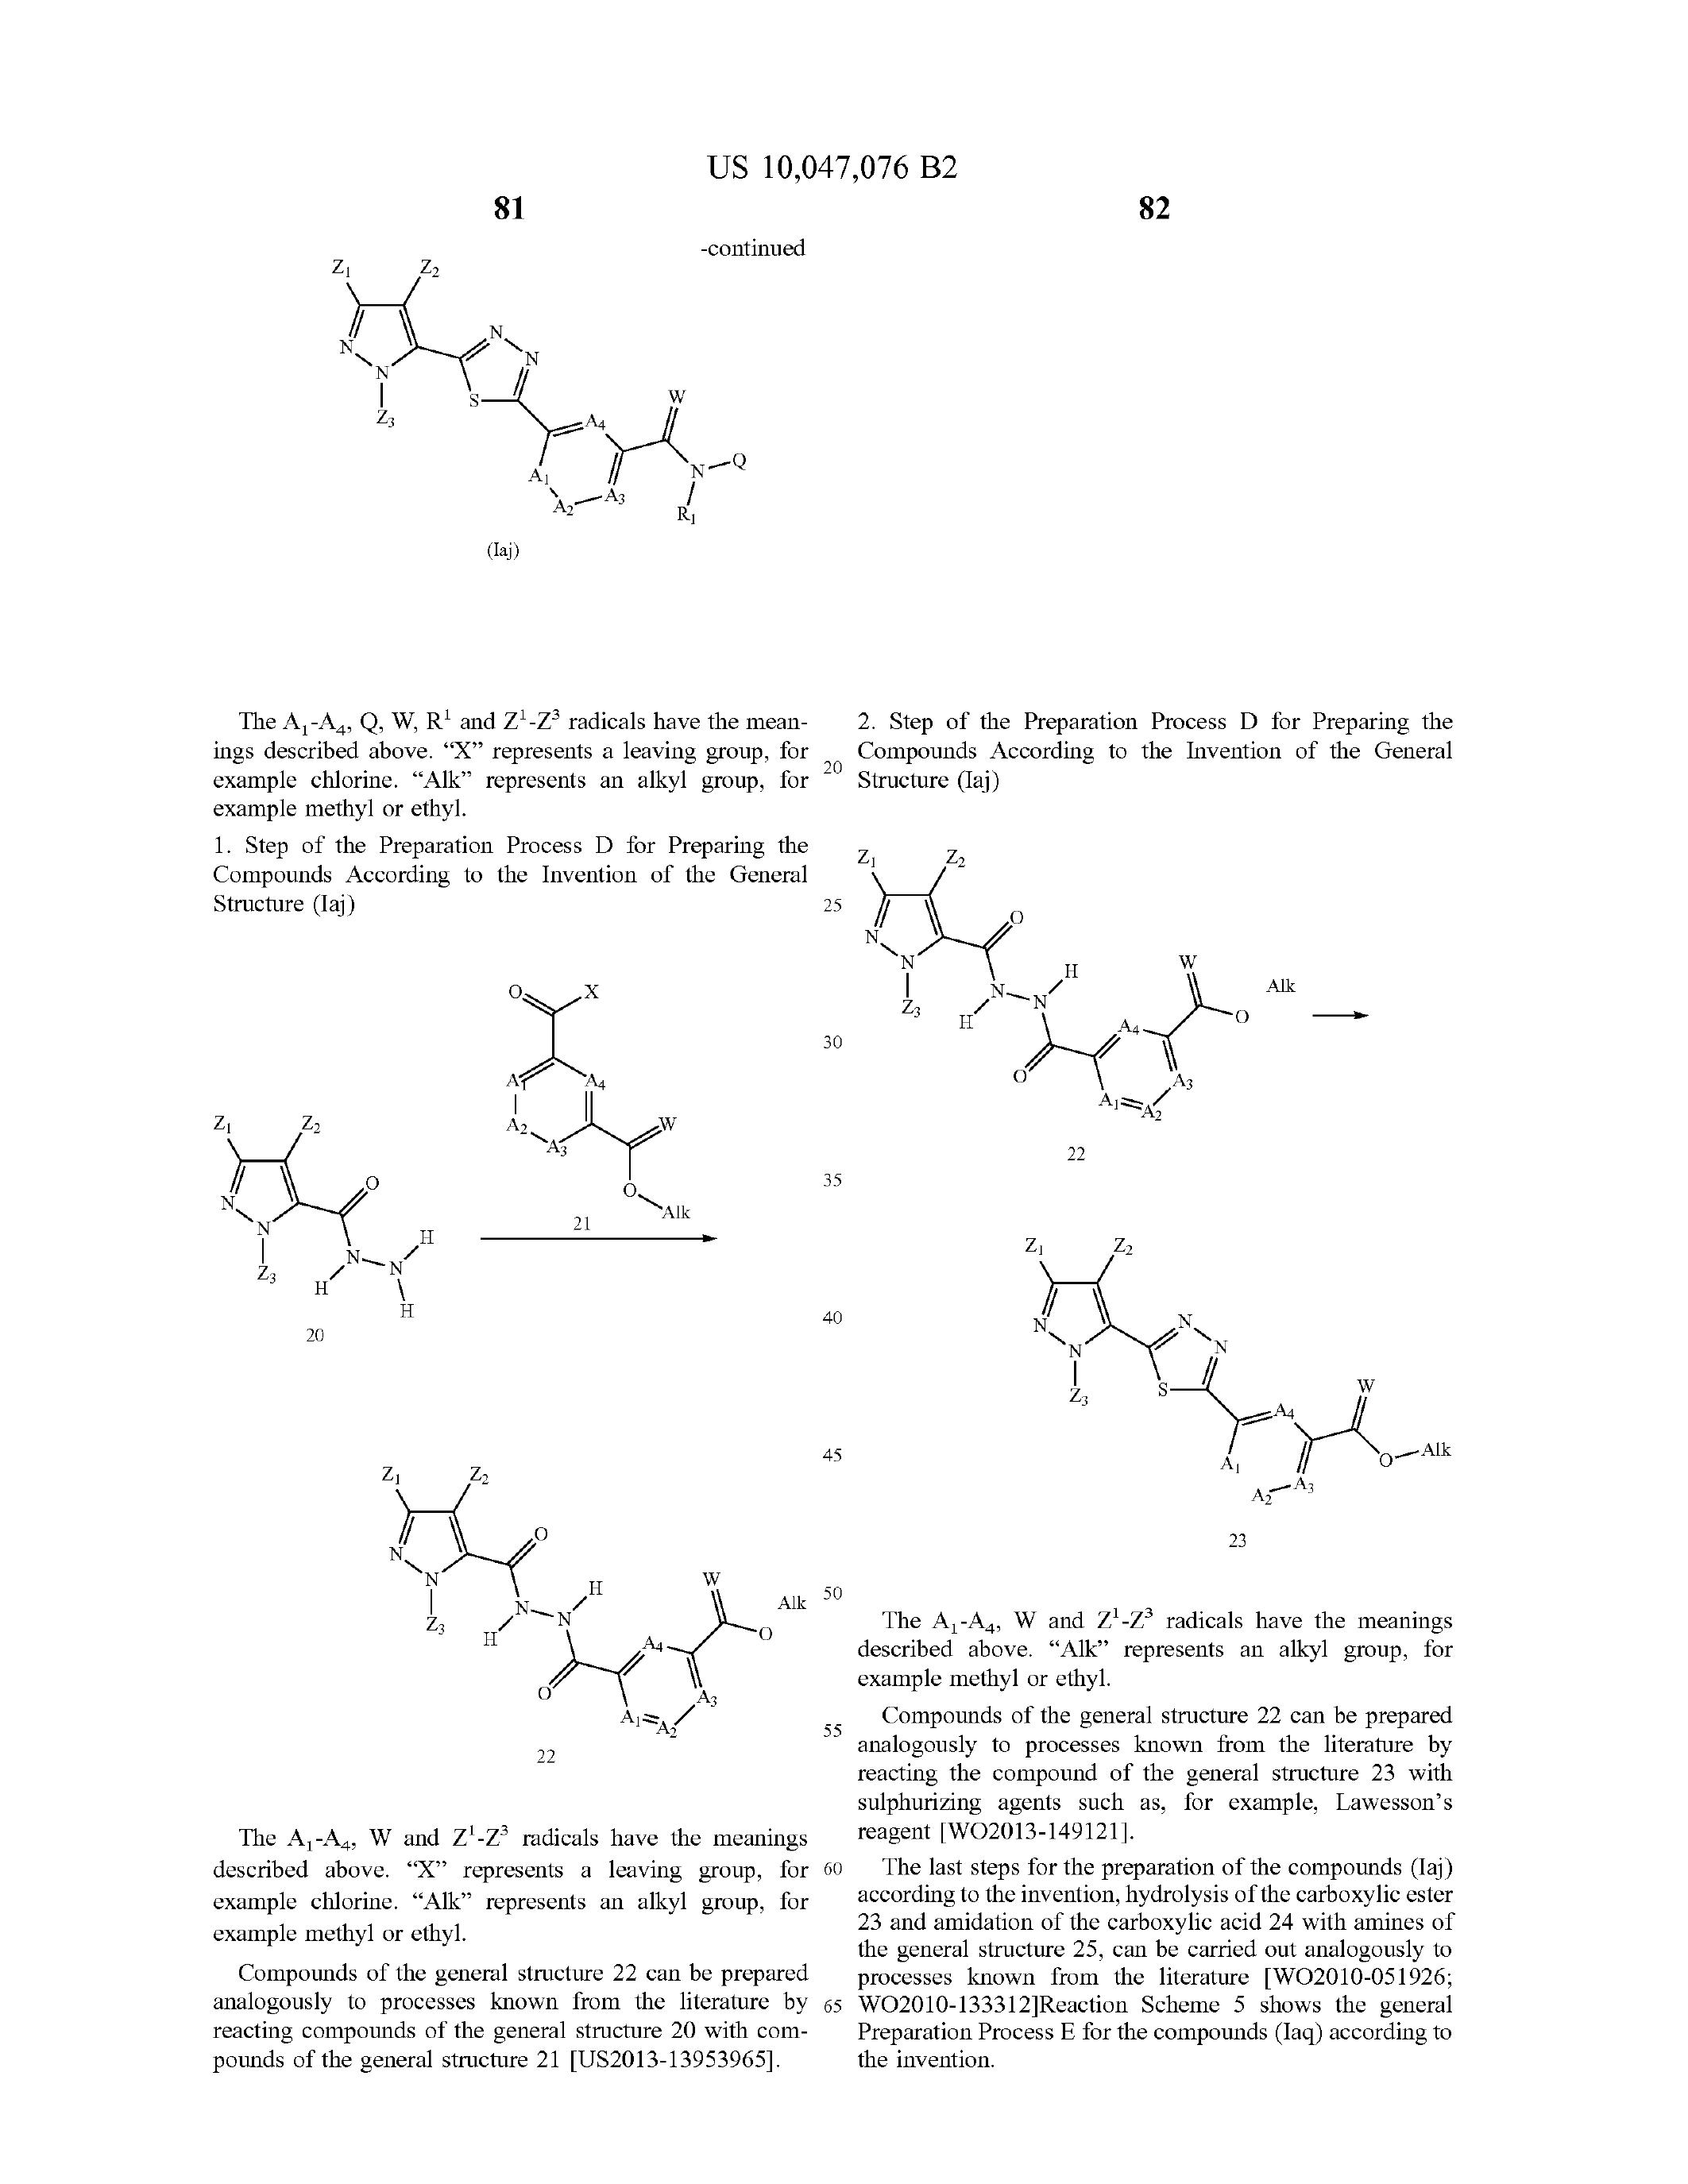reactions: (839, 803, 1550, 1512)
